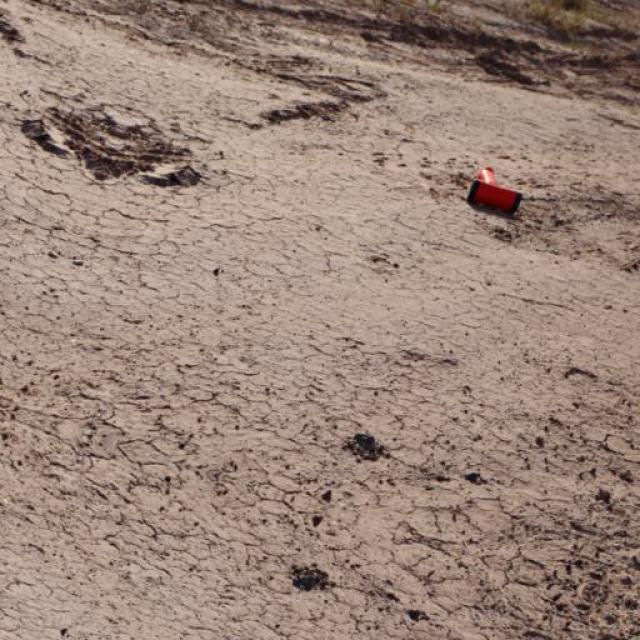mallet: (465, 165, 523, 215)
